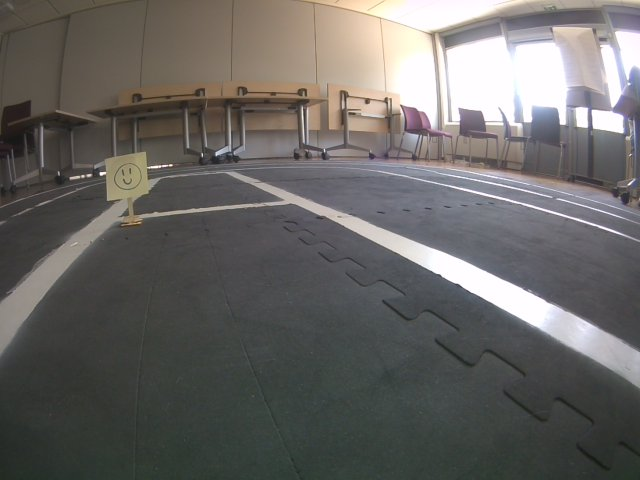Smiley: (104, 151, 152, 202)
